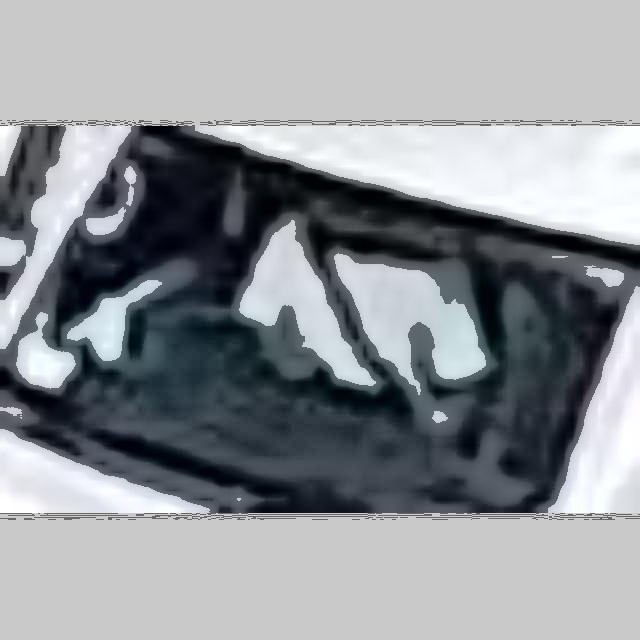pakai: (225, 189, 487, 460)
